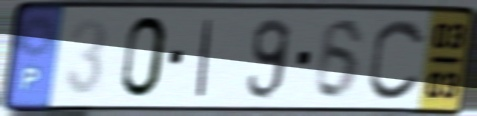0: (119, 14, 169, 102)
3: (64, 15, 112, 100)
6: (312, 17, 368, 102)
9: (243, 16, 292, 101)
C: (365, 15, 428, 103)
I: (193, 17, 216, 100)
